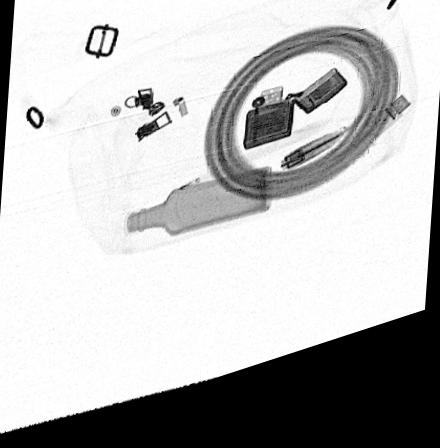Lighter: (242, 89, 349, 165)
